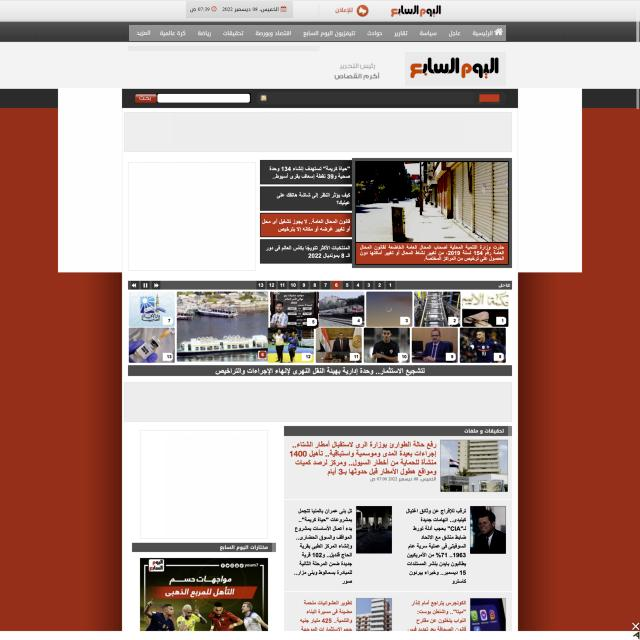CheckBox: (136, 93, 157, 103)
CheckedTextView: (157, 93, 251, 103)
QR code: (186, 1, 293, 18)
bag: (0, 0, 640, 88)
copy: (356, 161, 508, 243), (440, 439, 508, 492), (470, 506, 506, 554), (356, 506, 392, 553)
date picker: (405, 52, 506, 86)
decoration: (129, 25, 506, 41)
dropdown: (132, 280, 398, 290)
